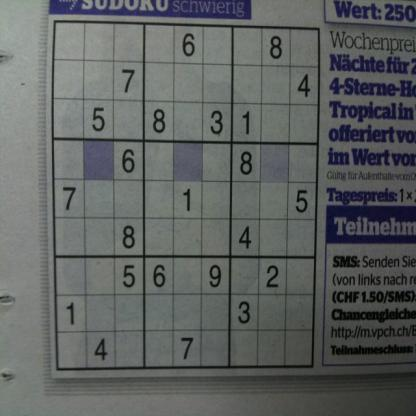sudoku: (48, 18, 323, 374)
